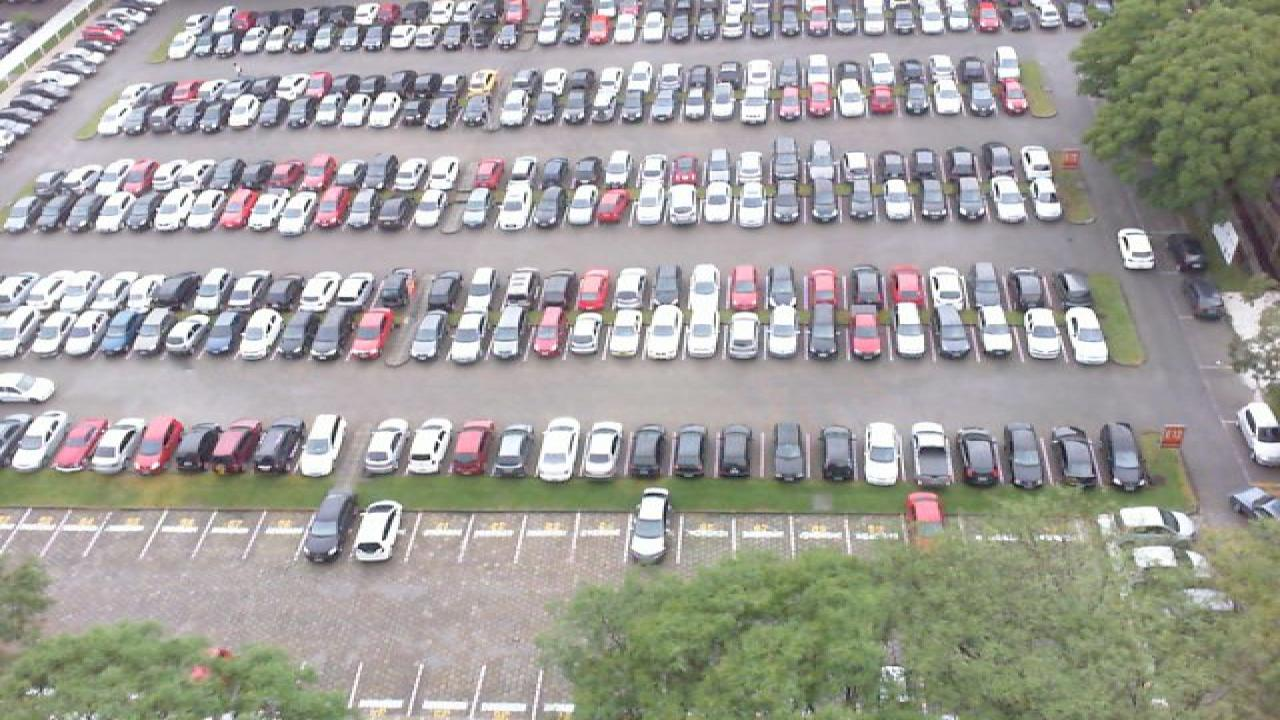Car: (298, 489, 358, 564), (4, 410, 70, 472), (1096, 421, 1150, 493), (626, 486, 672, 566), (244, 418, 304, 476), (908, 420, 960, 486), (534, 416, 584, 483), (294, 413, 346, 477), (52, 417, 112, 472), (350, 499, 402, 562), (1044, 422, 1092, 490), (92, 417, 148, 475), (130, 416, 184, 476), (954, 424, 1004, 487), (358, 416, 410, 476), (400, 417, 452, 476), (1236, 399, 1280, 468), (448, 419, 498, 478), (1112, 504, 1196, 539), (206, 420, 260, 474), (860, 421, 904, 487), (170, 422, 224, 475), (998, 422, 1042, 486), (624, 424, 674, 480), (580, 423, 626, 481), (494, 423, 542, 477), (676, 424, 722, 480), (1004, 304, 1048, 362), (640, 303, 684, 361), (406, 308, 454, 361), (902, 490, 948, 544), (770, 422, 812, 481), (90, 308, 138, 359), (24, 307, 72, 358), (236, 307, 282, 360), (446, 307, 490, 362), (164, 310, 214, 358), (892, 304, 934, 361), (348, 309, 394, 361), (310, 307, 354, 361), (816, 422, 856, 481), (970, 305, 1012, 361), (602, 305, 644, 360), (126, 309, 172, 359), (58, 308, 104, 358), (272, 309, 316, 361), (684, 303, 724, 360), (724, 306, 766, 360), (768, 304, 808, 360), (564, 306, 606, 359), (526, 306, 568, 359), (488, 308, 530, 361), (198, 312, 244, 360), (724, 426, 764, 480), (1054, 307, 1094, 361), (932, 306, 972, 360), (848, 308, 888, 359), (808, 306, 846, 359), (0, 371, 58, 405), (1114, 226, 1158, 270), (1124, 544, 1198, 570), (0, 308, 38, 354)
